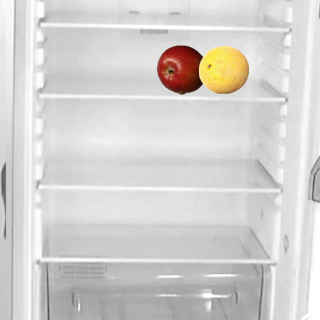Apple Braeburn: (156, 44, 206, 94)
Cantaloupe 1: (198, 44, 248, 94)
